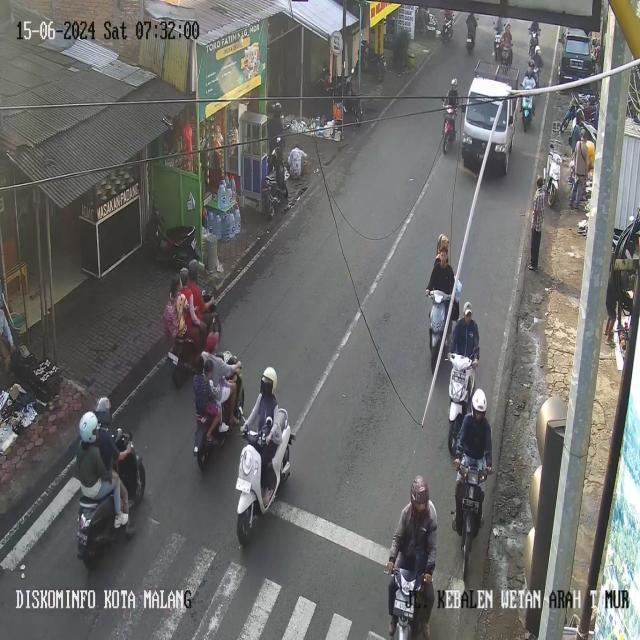Helmet: (410, 476, 428, 507), (79, 412, 97, 442), (262, 366, 277, 390), (472, 389, 486, 412), (206, 332, 218, 352), (188, 259, 198, 281), (437, 234, 448, 252), (96, 397, 110, 411), (179, 267, 188, 285), (463, 301, 472, 315), (451, 78, 457, 88), (528, 60, 534, 69), (534, 45, 540, 53), (505, 23, 510, 30)
Number Plate: (394, 599, 413, 615), (463, 498, 479, 512), (236, 478, 250, 492), (168, 352, 178, 364), (77, 532, 86, 544)
